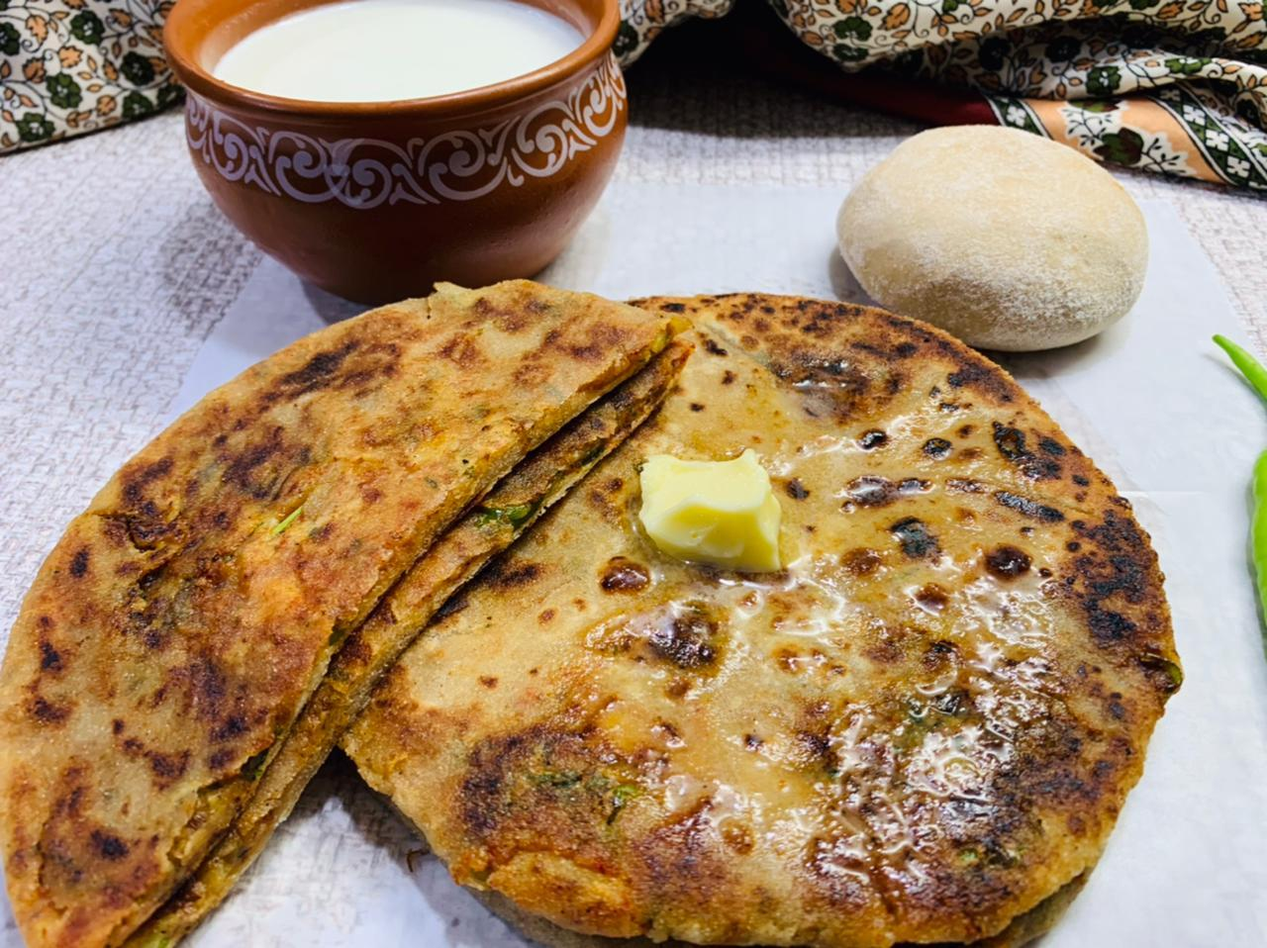paratha: (346, 258, 1186, 948)
yogurt: (163, 0, 674, 171)
